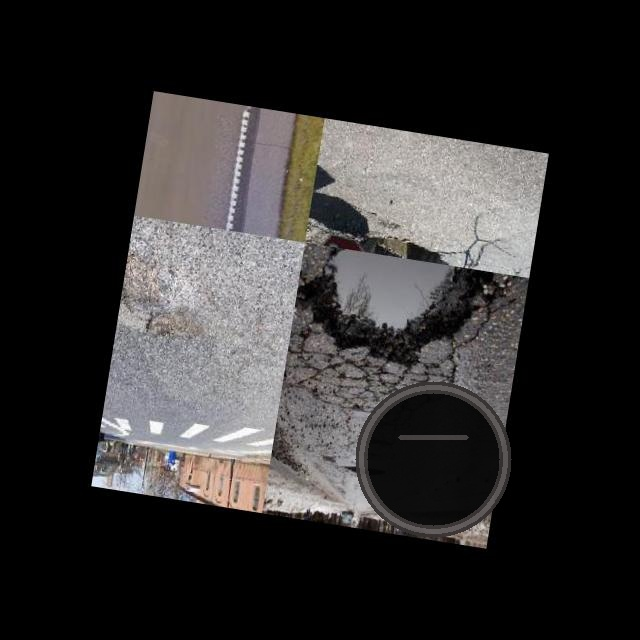open_manhole: (352, 378, 514, 540)
